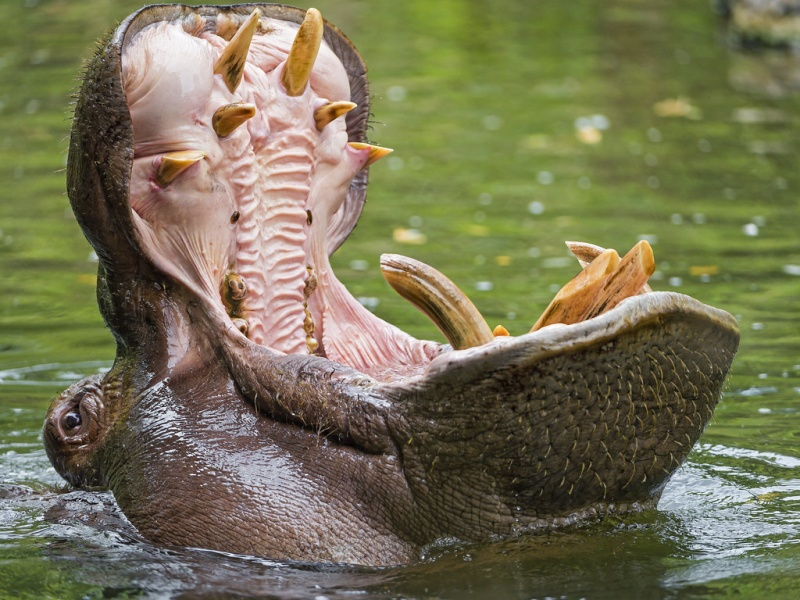hipopotamo: (25, 0, 746, 566)
